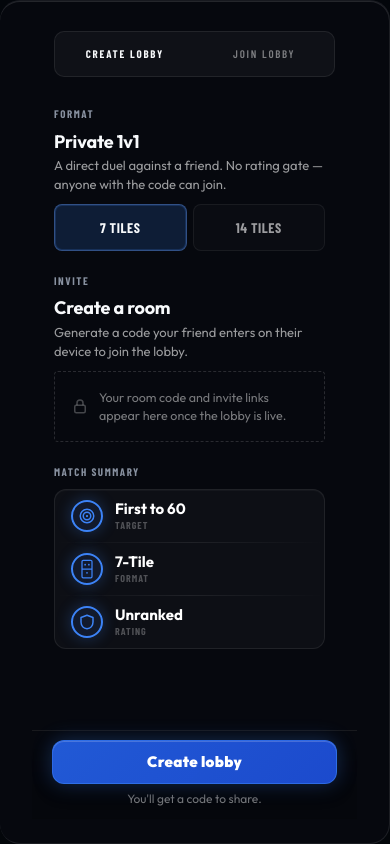
Scenario: PrivateMatchLobbyControlPanel — redesigned panel › join lobby tab still exposes the room-code input
Click the tab "Join lobby".
click(264, 54)  # box [194,32,334,76]
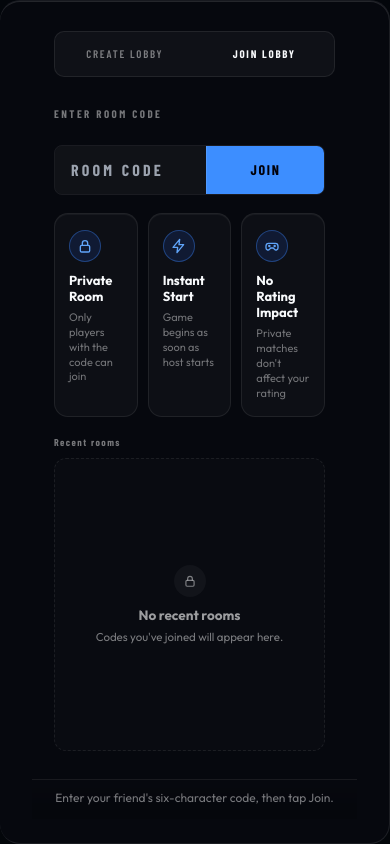
Now the field with placeholder "ROOM CODE" is shown, box [55,146,206,194]
